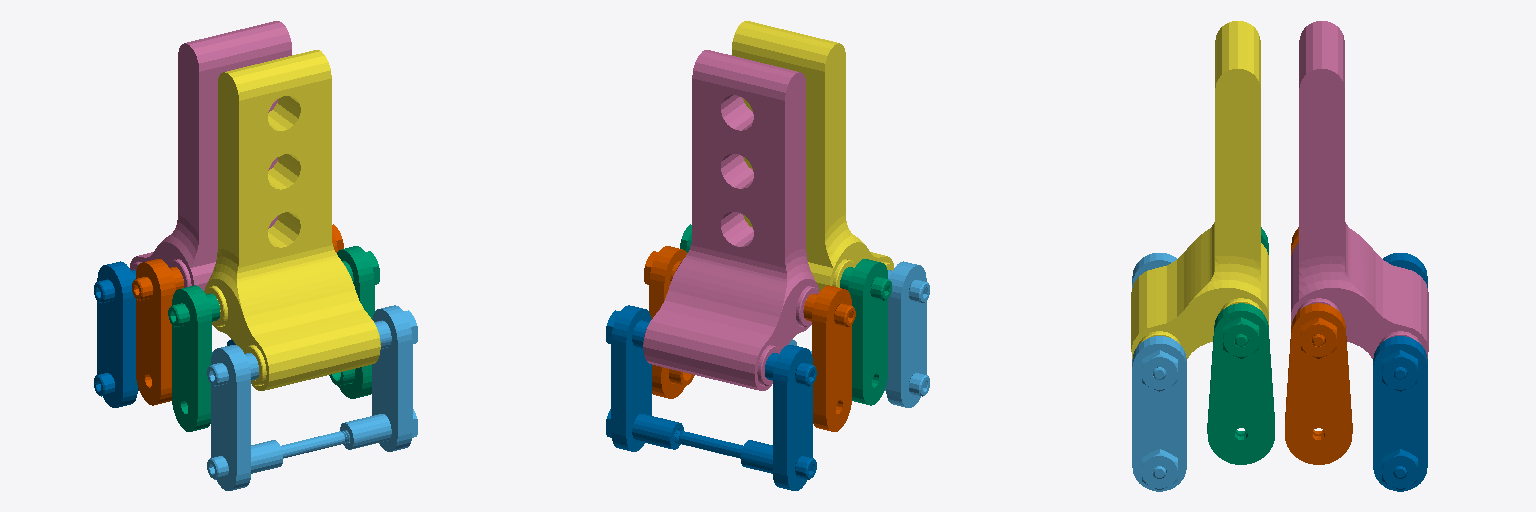
robot.urdf — kbot_gripper:
<?xml version="1.0" ?>
<!-- =================================================================================== -->
<!-- |    This document was autogenerated by xacro from kbot_gripper.xacro             | -->
<!-- |    EDITING THIS FILE BY HAND IS NOT RECOMMENDED                                 | -->
<!-- =================================================================================== -->
<robot name="kbot_gripper" xmlns:xacro="http://ros.org/wiki/xacro">
  <!-- links: main serial chain -->
  <link name="base_link">
    <visual>
      <origin rpy="0 0 0" xyz="0 0 0"/>
      <geometry>
        <mesh filename="package://kbot_arm/meshes//gripper/visual/kbot_gripper_base.stl"/>
      </geometry>
    </visual>
    <collision>
      <origin rpy="0 0 0" xyz="0 0 0"/>
      <geometry>
        <mesh filename="package://kbot_arm/meshes//gripper/visual/kbot_gripper_base.stl"/>
      </geometry>
    </collision>
  </link>
  <link name="left_outer_link">
    <visual>
      <origin rpy="0 0 0" xyz="0 0 0"/>
      <geometry>
        <mesh filename="package://kbot_arm/meshes/gripper/visual/kbot_gripper_leftouterlink.stl"/>
      </geometry>
    </visual>
    <collision>
      <origin rpy="0 0 0" xyz="0 0 0"/>
      <geometry>
        <mesh filename="package://kbot_arm/meshes/gripper/visual/kbot_gripper_leftouterlink.stl"/>
      </geometry>
    </collision>
  </link>
  <link name="left_inner_link">
    <visual>
      <origin rpy="0 0 0" xyz="0 0 0"/>
      <geometry>
        <mesh filename="package://kbot_arm/meshes/gripper/visual/kbot_gripper_leftinnerlink.stl"/>
      </geometry>
    </visual>
    <collision>
      <origin rpy="0 0 0" xyz="0 0 0"/>
      <geometry>
        <mesh filename="package://kbot_arm/meshes/gripper/visual/kbot_gripper_leftinnerlink.stl"/>
      </geometry>
    </collision>
  </link>
  <link name="left_finger">
    <visual>
      <origin rpy="0 0 0" xyz="0 0 0"/>
      <geometry>
        <mesh filename="package://kbot_arm/meshes/gripper/visual/kbot_gripper_leftfinger.stl"/>
      </geometry>
    </visual>
    <collision>
      <origin rpy="0 0 0" xyz="0 0 0"/>
      <geometry>
        <mesh filename="package://kbot_arm/meshes/gripper/visual/kbot_gripper_leftfinger.stl"/>
      </geometry>
    </collision>
  </link>
  <link name="right_outer_link">
    <visual>
      <origin rpy="0 0 0" xyz="0 0 0"/>
      <geometry>
        <mesh filename="package://kbot_arm/meshes/gripper/visual/kbot_gripper_rightouterlink.stl"/>
      </geometry>
    </visual>
    <collision>
      <origin rpy="0 0 0" xyz="0 0 0"/>
      <geometry>
        <mesh filename="package://kbot_arm/meshes/gripper/visual/kbot_gripper_rightouterlink.stl"/>
      </geometry>
    </collision>
  </link>
  <link name="right_inner_link">
    <visual>
      <origin rpy="0 0 0" xyz="0 0 0"/>
      <geometry>
        <mesh filename="package://kbot_arm/meshes/gripper/visual/kbot_gripper_rightinnerlink.stl"/>
      </geometry>
    </visual>
    <collision>
      <origin rpy="0 0 0" xyz="0 0 0"/>
      <geometry>
        <mesh filename="package://kbot_arm/meshes/gripper/visual/kbot_gripper_rightinnerlink.stl"/>
      </geometry>
    </collision>
  </link>
  <link name="right_finger">
    <visual>
      <origin rpy="0 0 0" xyz="0 0 0"/>
      <geometry>
        <mesh filename="package://kbot_arm/meshes/gripper/visual/kbot_gripper_rightfinger.stl"/>
      </geometry>
    </visual>
    <collision>
      <origin rpy="0 0 0" xyz="0 0 0"/>
      <geometry>
        <mesh filename="package://kbot_arm/meshes/gripper/visual/kbot_gripper_rightfinger.stl"/>
      </geometry>
    </collision>
  </link>
  <!-- joints: main serial chain -->
  <joint name="l_joint_0" type="revolute">
    <origin rpy="0 0 0" xyz="0 -0.0085 0.024"/>
    <parent link="base_link"/>
    <child link="left_inner_link"/>
    <axis xyz="1 0 0"/>
    <limit effort="0" lower="0" upper="1.26" velocity="3.67"/>
  </joint>
  <joint name="l_joint_1" type="revolute">
    <origin rpy="0 0 0" xyz="0 -0.0265 0.016"/>
    <parent link="base_link"/>
    <child link="left_outer_link"/>
    <axis xyz="1 0 0"/>
    <limit effort="0" lower="0" upper="1.26" velocity="3.67"/>
    <mimic joint="l_joint_0" multiplier="1" offset="0"/>
  </joint>
  <joint name="l_joint_2" type="revolute">
    <origin rpy="0 0 0" xyz="0 0 0.024"/>
    <parent link="left_inner_link"/>
    <child link="left_finger"/>
    <axis xyz="1 0 0"/>
    <limit effort="0" lower="0" upper="1.26" velocity="3.67"/>
    <mimic joint="l_joint_0" multiplier="-1" offset="0"/>
  </joint>
  <joint name="r_joint_0" type="revolute">
    <origin rpy="0 0 0" xyz="0 0.0085 0.024"/>
    <parent link="base_link"/>
    <child link="right_inner_link"/>
    <axis xyz="1 0 0"/>
    <limit effort="0" lower="-1.26" upper="0" velocity="3.67"/>
  </joint>
  <joint name="r_joint_1" type="revolute">
    <origin rpy="0 0 0" xyz="0 0.0265 0.016"/>
    <parent link="base_link"/>
    <child link="right_outer_link"/>
    <axis xyz="1 0 0"/>
    <limit effort="0" lower="0" upper="-1.26" velocity="3.67"/>
    <mimic joint="r_joint_0" multiplier="1" offset="0"/>
  </joint>
  <joint name="r_joint_2" type="revolute">
    <origin rpy="0 0 0" xyz="0 0 0.024"/>
    <parent link="right_inner_link"/>
    <child link="right_finger"/>
    <axis xyz="1 0 0"/>
    <limit effort="0" lower="0" upper="1.26" velocity="3.67"/>
    <mimic joint="r_joint_0" multiplier="-1" offset="0"/>
  </joint>
  <!-- ROS-Industrial 'base' frame: base_link to Fanuc World Coordinates transform 
    <link name="${prefix}base" />
    <joint name="${prefix}base_link-base" type="fixed">
      <origin xyz="0 0 0" rpy="0 0 0"/>
      <parent link="${prefix}base_link"/>
      <child link="${prefix}base"/>
    </joint> -->
  <!-- ROS-Industrial 'flange' frame: attachment point for EEF models
    <link name="${prefix}flange" />
    <joint name="${prefix}joint_6-flange" type="fixed">
      <origin xyz="0 0 0" rpy="0 0 0" />
      <parent link="${prefix}link_6" />
      <child link="${prefix}flange" />
    </joint>
-->
  <!-- ROS-Industrial 'tool0' frame: all-zeros tool frame 
    <link name="${prefix}tool0" />
    <joint name="${prefix}link_6-tool0" type="fixed">
      <origin xyz="0 0 0" rpy="0 0 0" />
      <parent link="${prefix}link_6" />
      <child link="${prefix}tool0" />
    </joint>-->
</robot>

--- Render facts (derived) ---
3 views of the same robot in one strip: view 1: azimuth 30°, elevation 25°; view 2: azimuth 150°, elevation 25°; view 3: azimuth 270°, elevation 25° (orthographic).
Model kbot_gripper with 7 links and 6 joints (6 revolute), rooted at base_link, posed every joint at zero.
Visible links, largest first — view 1: left_finger, left_outer_link, right_finger, left_inner_link, right_outer_link, right_inner_link; view 2: right_finger, right_outer_link, left_finger, right_inner_link, left_outer_link, left_inner_link; view 3: left_finger, right_finger, left_inner_link, right_inner_link, left_outer_link, right_outer_link.
Link boxes in pixels (x1,y1,x2,y2): left_finger: (205,50,380,390); left_outer_link: (207,305,417,490); right_finger: (130,21,291,291); left_inner_link: (168,246,379,431); right_outer_link: (94,261,235,407); right_inner_link: (132,224,343,405); right_finger: (643,50,818,390); right_outer_link: (606,305,816,490); left_finger: (732,21,893,291); right_inner_link: (644,246,855,431); left_outer_link: (788,261,929,407); left_inner_link: (680,224,891,405); left_finger: (1131,21,1268,358); right_finger: (1291,21,1428,358); left_inner_link: (1207,227,1274,464); right_inner_link: (1285,227,1352,464); left_outer_link: (1132,253,1186,491); right_outer_link: (1373,253,1427,491).
Size in the robot's own frame: 0.0541 by 0.0655 by 0.0975 metres.
Meshes: 7 distinct files referenced, 6 mesh visuals loaded (6 binary STL); not drawn: 1 (reference not matched to a file when rendering).
